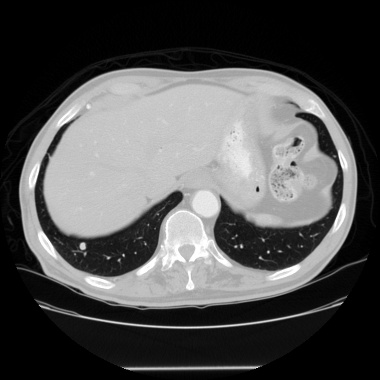PN: (78, 242, 86, 250)
